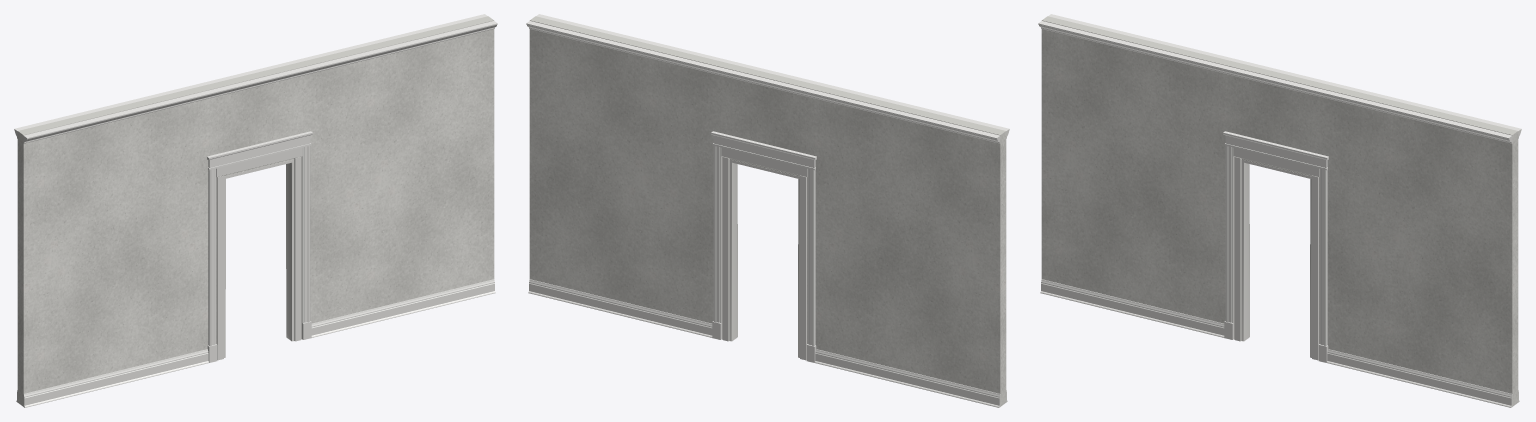
The picture shows the model from 3 angles, left to right: view 1: azimuth 30°, elevation 25°; view 2: azimuth 150°, elevation 25°; view 3: azimuth 330°, elevation 25°; orthographic projection.
Visible parts, largest first — view 1: cw_570_d_plaster, molduras, cw_570_d_frame; view 2: cw_570_d_plaster, molduras, cw_570_d_frame; view 3: cw_570_d_plaster, molduras, cw_570_d_frame.
Part boxes in pixels (left/top/right/bottom): cw_570_d_plaster: left=17, top=16, right=494, bottom=406; molduras: left=14, top=14, right=497, bottom=407; cw_570_d_frame: left=216, top=147, right=302, bottom=360; cw_570_d_plaster: left=529, top=16, right=1006, bottom=406; molduras: left=526, top=14, right=1009, bottom=407; cw_570_d_frame: left=721, top=147, right=807, bottom=360; cw_570_d_plaster: left=1041, top=16, right=1518, bottom=406; molduras: left=1038, top=14, right=1521, bottom=407; cw_570_d_frame: left=1233, top=147, right=1319, bottom=360.
Bounding box in the file's own units: 5.7 × 3.14 × 0.27.
3 materials, 1 textured.
